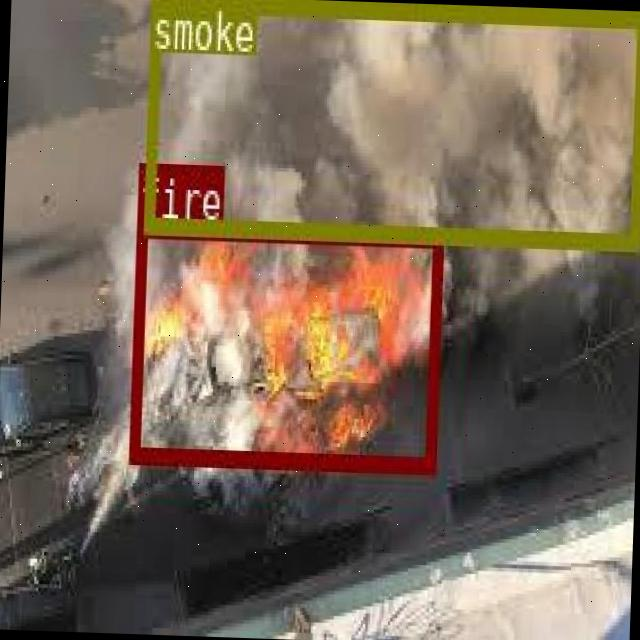fire: (127, 218, 441, 472)
smoke: (141, 0, 640, 248)
